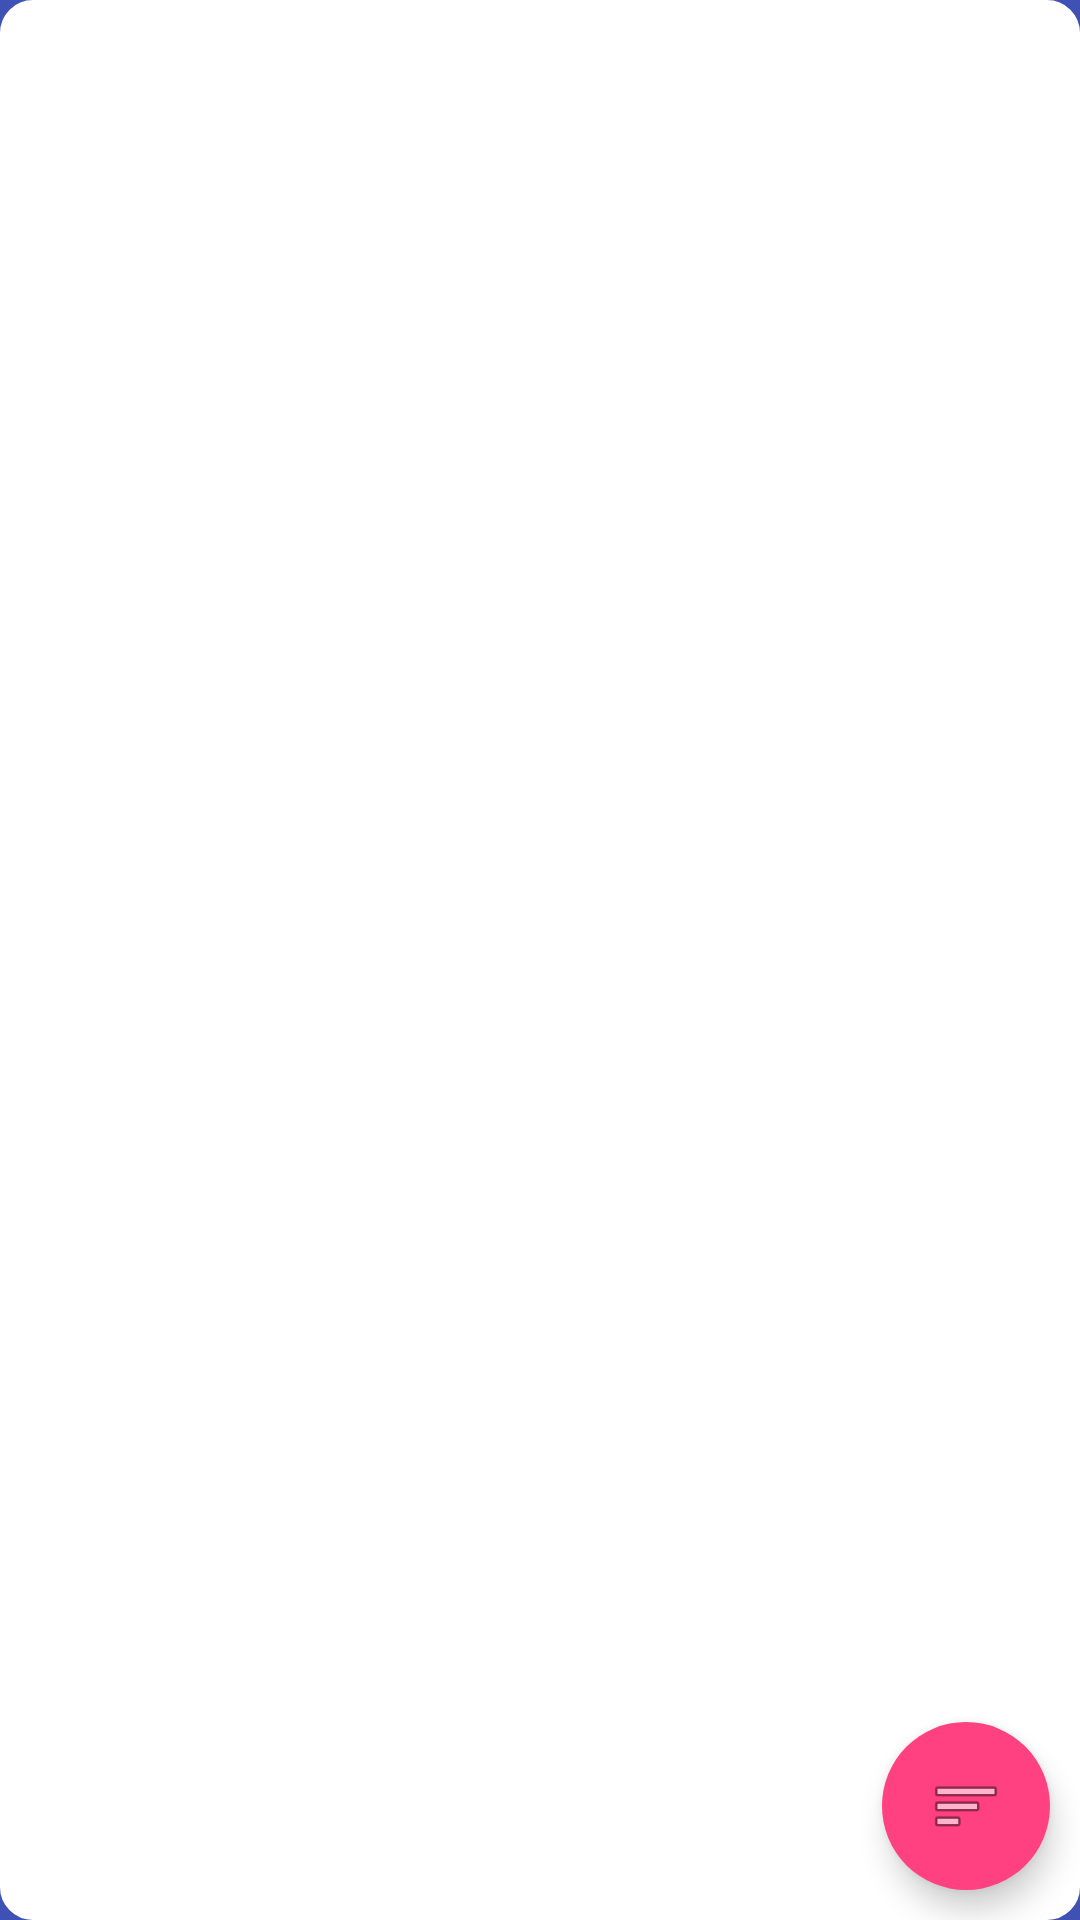

Screen size 1080px×1920px. Icon name, then its center in pixels as (x=x, y=y):
sort by size: (x=966, y=1806)
